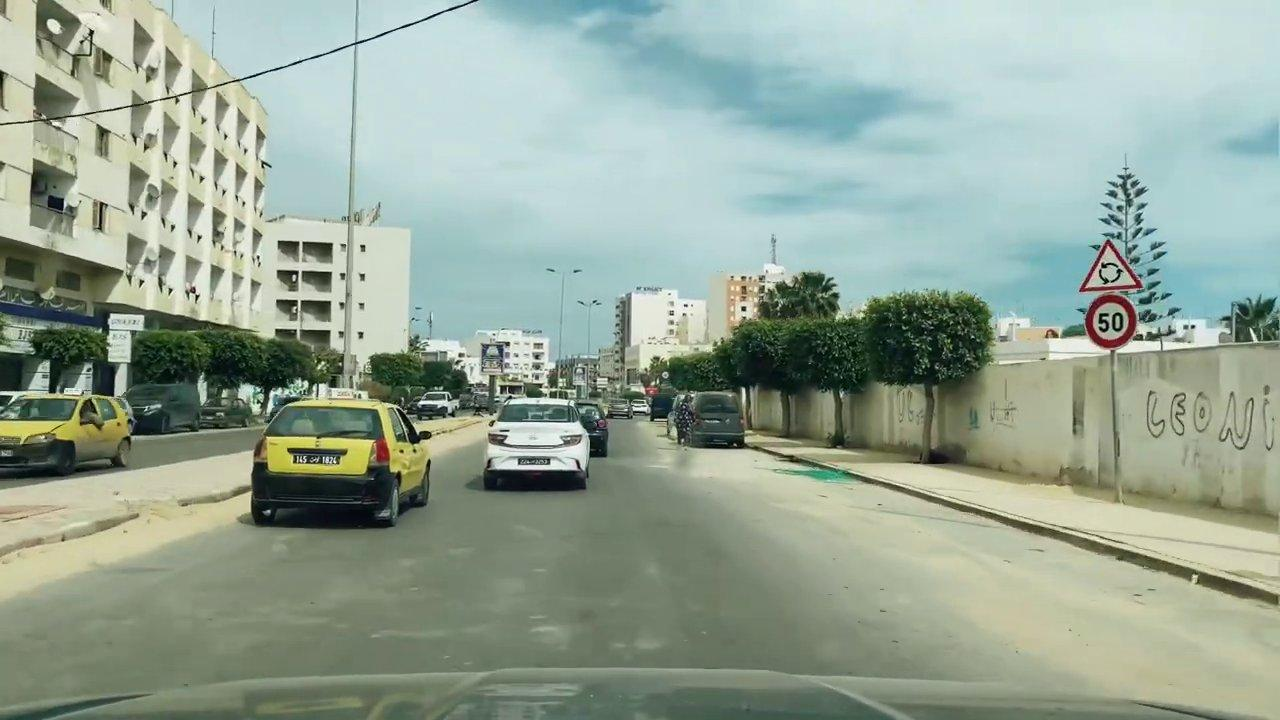roundabout: (1076, 237, 1146, 294)
speed limit 50: (1083, 293, 1140, 352)
